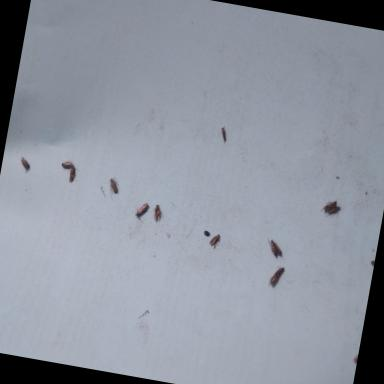pbw: (264, 237, 285, 258), (268, 268, 284, 288), (133, 202, 150, 220), (322, 197, 338, 214), (106, 178, 121, 196), (208, 232, 222, 250), (152, 206, 164, 225), (325, 206, 343, 218), (18, 155, 32, 170), (218, 124, 229, 143), (68, 166, 78, 186), (60, 158, 74, 172)
